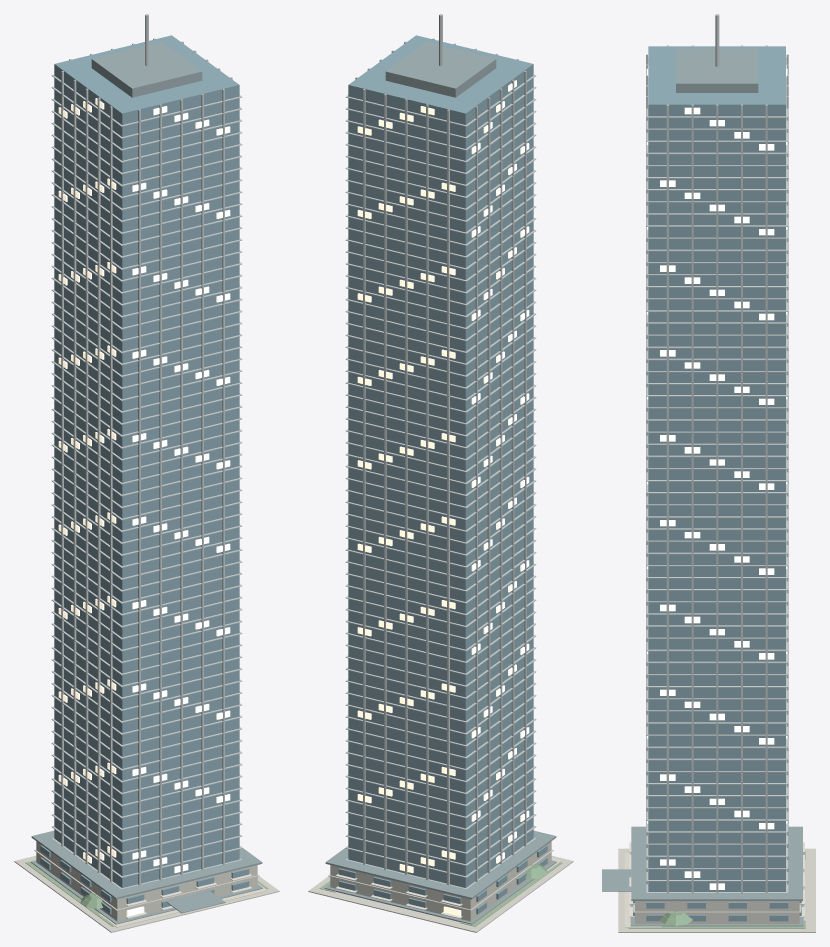
Rendered from remaster_skyscraper_7.glb.
3 views of the same model, side by side, from view 1: azimuth 30°, elevation 25°; view 2: azimuth 150°, elevation 25°; view 3: azimuth 270°, elevation 25° (orthographic).
Parts seen in each view (by area): view 1: remaster_skyscraper_7 glass, remaster_skyscraper_7 metal, remaster_skyscraper_7 roof, remaster_skyscraper_7 warm, remaster_skyscraper_7 stone; view 2: remaster_skyscraper_7 glass, remaster_skyscraper_7 metal, remaster_skyscraper_7 roof, remaster_skyscraper_7 warm, remaster_skyscraper_7 stone; view 3: remaster_skyscraper_7 glass, remaster_skyscraper_7 metal, remaster_skyscraper_7 roof, remaster_skyscraper_7 warm, remaster_skyscraper_7 stone, remaster_skyscraper_7 green.
Boxes of the visible parts, x1,y1,x2,y2 form: remaster_skyscraper_7 glass: [40, 35, 249, 914]; remaster_skyscraper_7 metal: [51, 14, 242, 889]; remaster_skyscraper_7 roof: [31, 42, 262, 924]; remaster_skyscraper_7 warm: [58, 98, 230, 916]; remaster_skyscraper_7 stone: [14, 841, 279, 932]; remaster_skyscraper_7 glass: [338, 35, 547, 914]; remaster_skyscraper_7 metal: [345, 14, 536, 889]; remaster_skyscraper_7 roof: [325, 42, 556, 924]; remaster_skyscraper_7 warm: [357, 80, 529, 916]; remaster_skyscraper_7 stone: [308, 841, 573, 932]; remaster_skyscraper_7 glass: [633, 46, 801, 921]; remaster_skyscraper_7 metal: [646, 14, 788, 893]; remaster_skyscraper_7 roof: [602, 48, 803, 926]; remaster_skyscraper_7 warm: [646, 65, 787, 889]; remaster_skyscraper_7 stone: [618, 848, 815, 932]; remaster_skyscraper_7 green: [628, 851, 805, 928].
Size of the model in its own units: 38.58 by 188 by 41.6.
